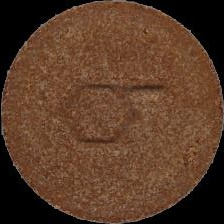42254-242: (0, 0, 224, 224)
